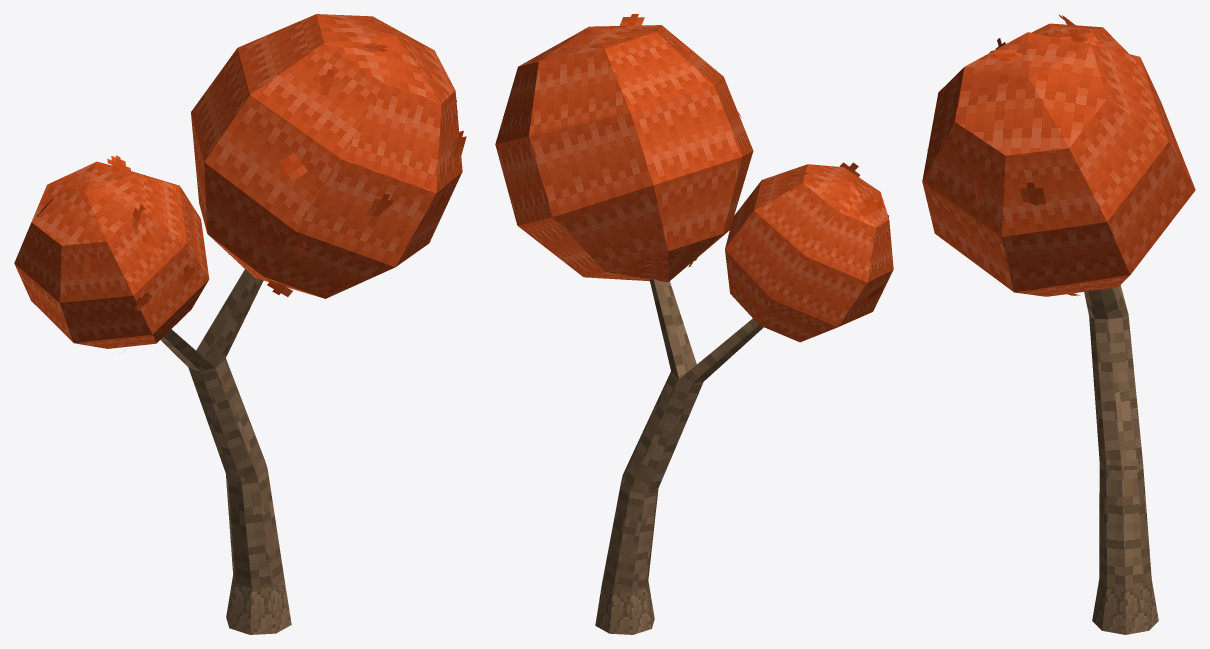
File: Arbre var1.glb
3 renders of one model, left to right at view 1: azimuth 30°, elevation 25°; view 2: azimuth 150°, elevation 25°; view 3: azimuth 270°, elevation 25°, orthographic. The views are drawn at different scales.
Visible parts, largest first — view 1: Sphere.007, Sphere.002, Cube.001; view 2: Sphere.007, Sphere.002, Cube.001; view 3: Sphere.007, Cube.001, Sphere.002, Plane.035.
Part boxes in pixels (x1,y1,x2,y2): Sphere.007: [191, 14, 462, 298]; Sphere.002: [14, 161, 209, 348]; Cube.001: [160, 269, 291, 634]; Sphere.007: [495, 25, 753, 282]; Sphere.002: [725, 164, 893, 342]; Cube.001: [595, 279, 763, 634]; Sphere.007: [922, 32, 1195, 296]; Cube.001: [1084, 285, 1158, 634]; Sphere.002: [1031, 23, 1128, 53]; Plane.035: [1020, 182, 1045, 206].
Size of the model in its own units: 2.14 by 3.06 by 1.27.
Materials: 23 (23 with a texture image).
